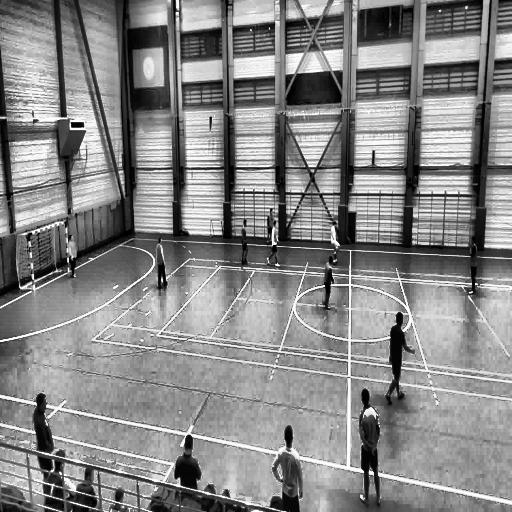player: (358, 390, 381, 506), (386, 312, 414, 402), (274, 425, 303, 511), (33, 396, 54, 486), (156, 236, 168, 290), (323, 255, 334, 309), (268, 221, 280, 269), (469, 236, 478, 294), (66, 234, 77, 277), (330, 221, 340, 264), (241, 219, 248, 266)
